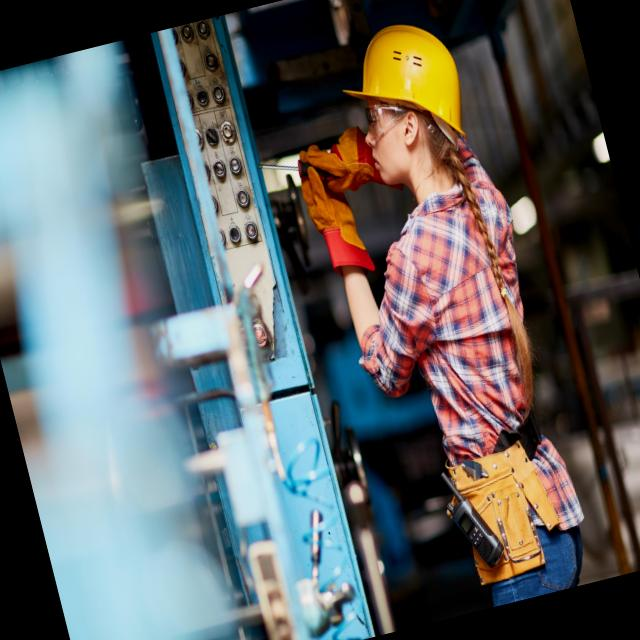helmet: (328, 7, 468, 142)
no-goggles: (348, 82, 448, 156)
no-vest: (373, 176, 558, 469)
